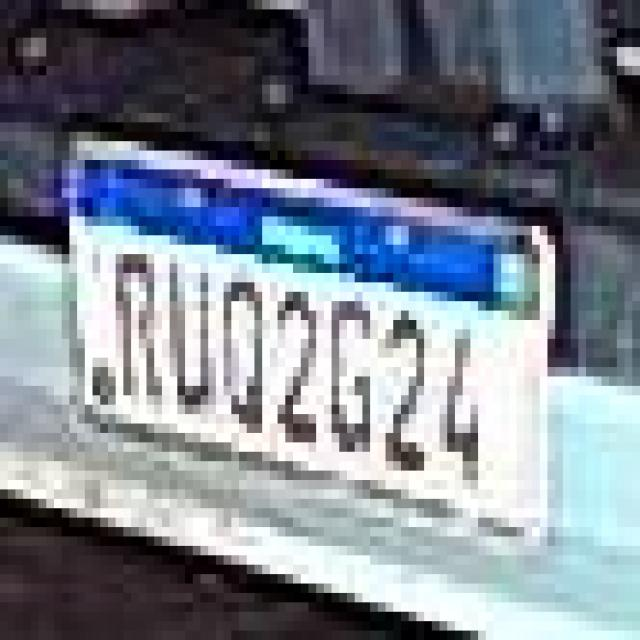4: (434, 321, 503, 493)
G: (327, 286, 373, 460)
Q: (214, 266, 270, 436)
R: (113, 249, 164, 401)
U: (166, 249, 216, 418)
